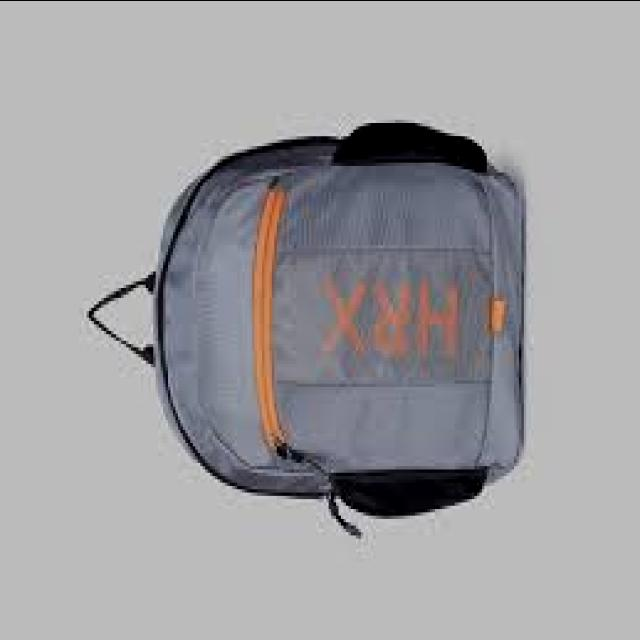backpack: (87, 123, 525, 539)
